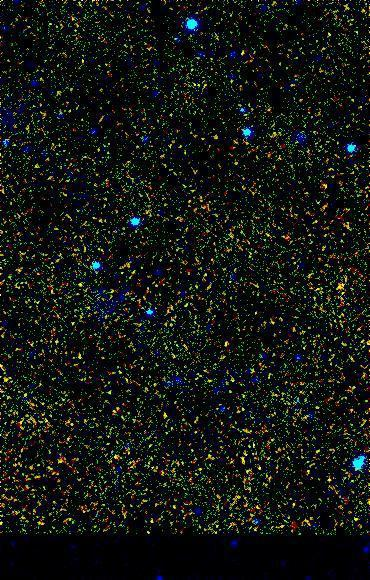star: (325, 270, 355, 300)
